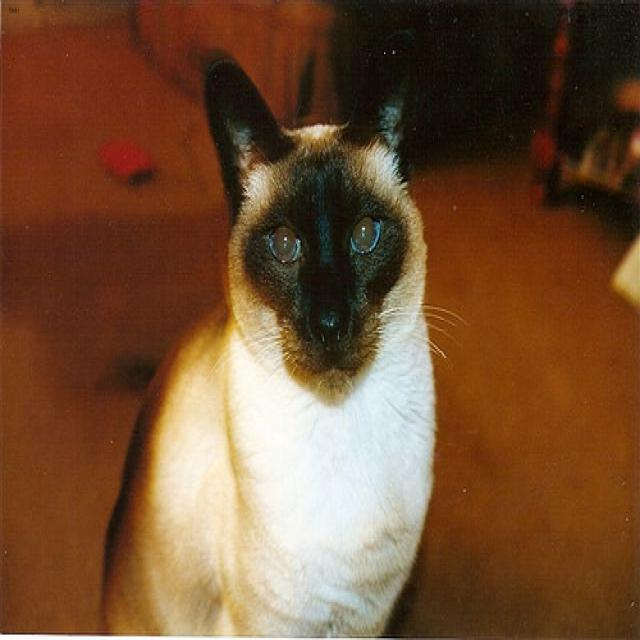Siamese: (200, 27, 417, 389)
